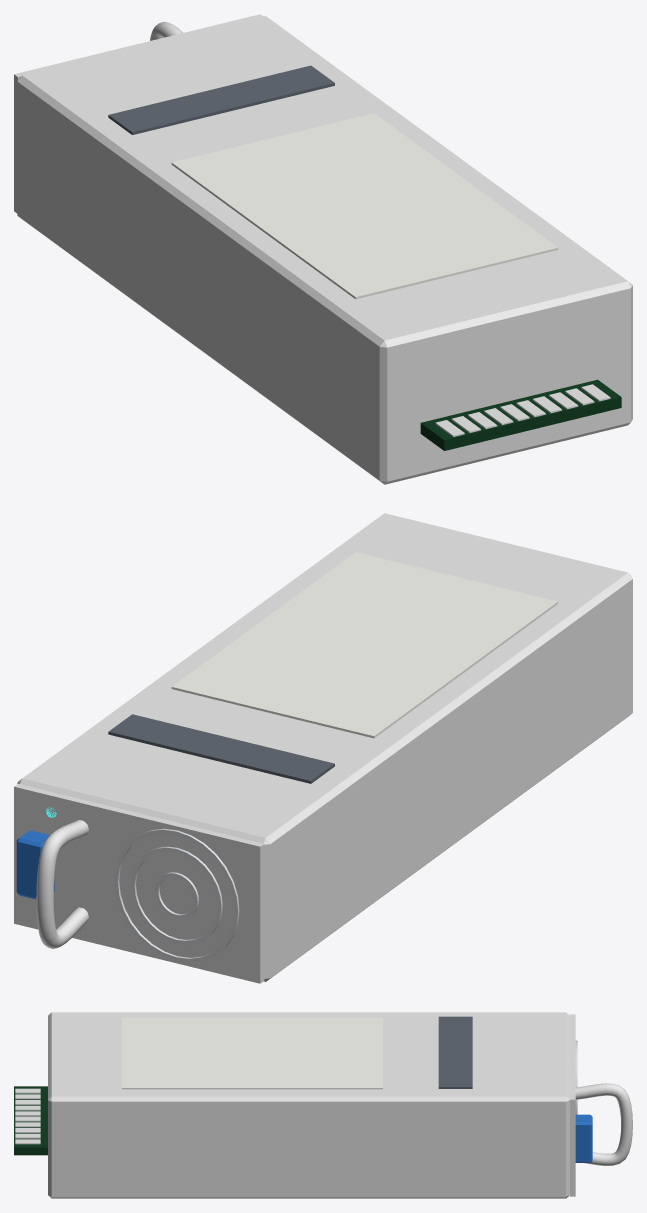
Rendered from hw_psu_1800w_tit.glb.
3 renders of one model, top to bottom at view 1: azimuth 30°, elevation 25°; view 2: azimuth 150°, elevation 25°; view 3: azimuth 270°, elevation 25°, orthographic. The views are drawn at different scales.
Parts seen in each view (by area): view 1: Body; view 2: Body; view 3: Body.
Boxes of the visible parts, left/top/right/bottom form: Body: left=14, top=14, right=632, bottom=484; Body: left=14, top=513, right=632, bottom=983; Body: left=14, top=1012, right=632, bottom=1198.
Bounding box in the file's own units: 0.0735 × 0.041 × 0.2193.
